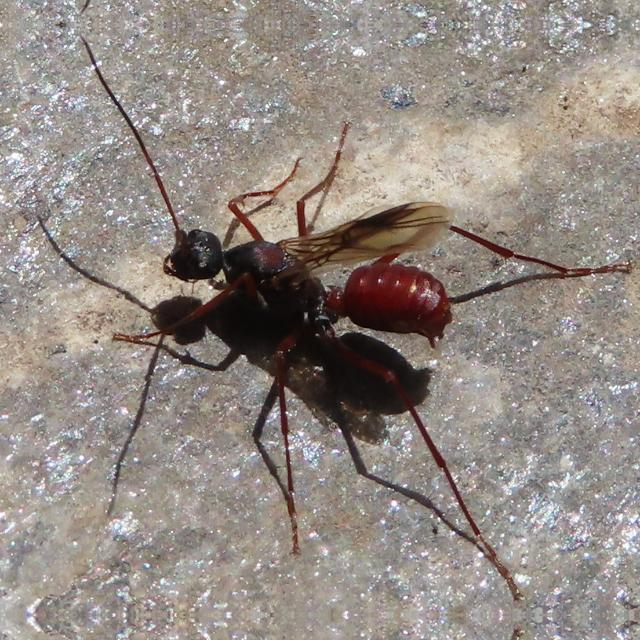Cataglyphis: (117, 172, 477, 384)
